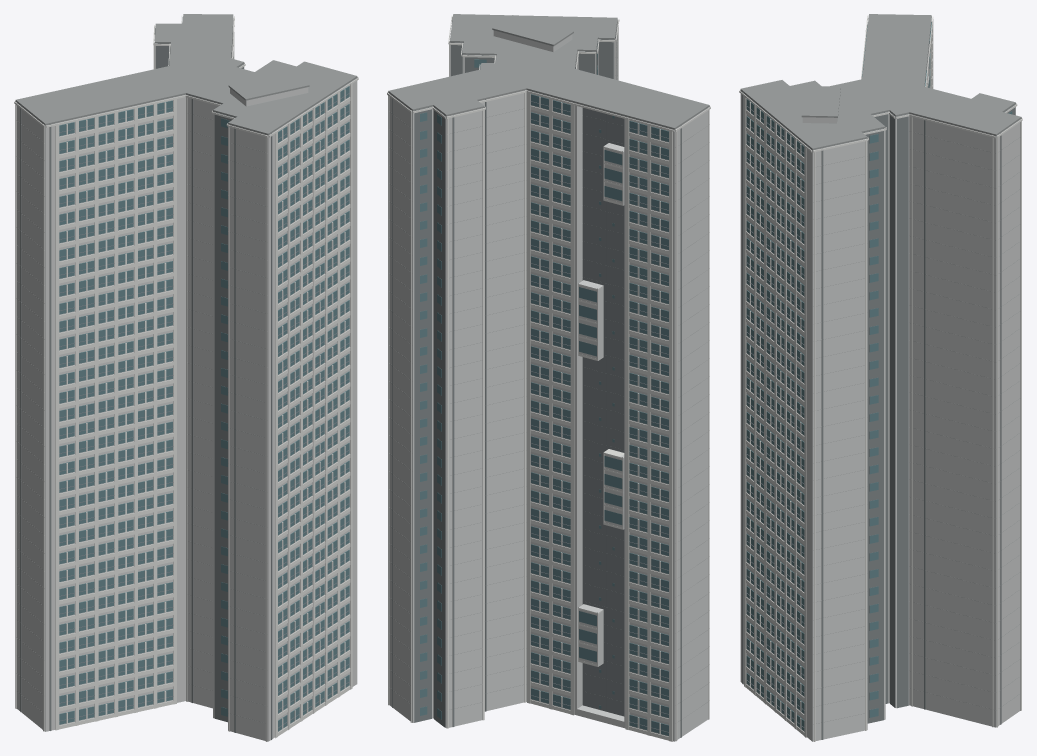
The model's file is bespoke-seoulforest-riverview-xi-101.glb.
3 views of the same model, side by side, from view 1: azimuth 30°, elevation 25°; view 2: azimuth 150°, elevation 25°; view 3: azimuth 270°, elevation 25° (orthographic). The views are drawn at different scales.
Parts seen in each view (by area): view 1: SFRX101_editable_SFRX101_light_grey_solid_wall, SFRX101_editable_SFRX101_broad_white_facade_frames, SFRX101_editable_SFRX101_blue_grey_horizontal_glazing, SFRX101_editable_SFRX101_modest_grey_flat_roof_caps, SFRX101_editable_SFRX101_deep_gray_recessed_service_wall, SFRX101_editable_SFRX101_dark_horizontal_spandrels_and_mulli; view 2: SFRX101_editable_SFRX101_light_grey_solid_wall, SFRX101_editable_SFRX101_broad_white_facade_frames, SFRX101_editable_SFRX101_deep_gray_recessed_service_wall, SFRX101_editable_SFRX101_blue_grey_horizontal_glazing, SFRX101_editable_SFRX101_modest_grey_flat_roof_caps, SFRX101_editable_SFRX101_dark_horizontal_spandrels_and_mulli; view 3: SFRX101_editable_SFRX101_light_grey_solid_wall, SFRX101_editable_SFRX101_broad_white_facade_frames, SFRX101_editable_SFRX101_deep_gray_recessed_service_wall, SFRX101_editable_SFRX101_blue_grey_horizontal_glazing, SFRX101_editable_SFRX101_modest_grey_flat_roof_caps, SFRX101_editable_SFRX101_dark_horizontal_spandrels_and_mulli.
Part boxes in pixels (x1=…): SFRX101_editable_SFRX101_light_grey_solid_wall: x1=15, y1=21, x2=357, y2=741; SFRX101_editable_SFRX101_broad_white_facade_frames: x1=14, y1=16, x2=358, y2=741; SFRX101_editable_SFRX101_blue_grey_horizontal_glazing: x1=59, y1=86, x2=349, y2=731; SFRX101_editable_SFRX101_modest_grey_flat_roof_caps: x1=15, y1=14, x2=357, y2=723; SFRX101_editable_SFRX101_deep_gray_recessed_service_wall: x1=20, y1=16, x2=272, y2=739; SFRX101_editable_SFRX101_dark_horizontal_spandrels_and_mulli: x1=59, y1=93, x2=349, y2=728; SFRX101_editable_SFRX101_light_grey_solid_wall: x1=388, y1=21, x2=709, y2=741; SFRX101_editable_SFRX101_broad_white_facade_frames: x1=387, y1=16, x2=710, y2=741; SFRX101_editable_SFRX101_deep_gray_recessed_service_wall: x1=392, y1=20, x2=681, y2=737; SFRX101_editable_SFRX101_blue_grey_horizontal_glazing: x1=420, y1=53, x2=668, y2=735; SFRX101_editable_SFRX101_modest_grey_flat_roof_caps: x1=388, y1=14, x2=709, y2=721; SFRX101_editable_SFRX101_dark_horizontal_spandrels_and_mulli: x1=531, y1=101, x2=668, y2=732; SFRX101_editable_SFRX101_light_grey_solid_wall: x1=740, y1=20, x2=1021, y2=741; SFRX101_editable_SFRX101_broad_white_facade_frames: x1=739, y1=15, x2=1022, y2=741; SFRX101_editable_SFRX101_deep_gray_recessed_service_wall: x1=742, y1=18, x2=1015, y2=739; SFRX101_editable_SFRX101_blue_grey_horizontal_glazing: x1=746, y1=22, x2=1012, y2=730; SFRX101_editable_SFRX101_modest_grey_flat_roof_caps: x1=740, y1=14, x2=1021, y2=724; SFRX101_editable_SFRX101_dark_horizontal_spandrels_and_mulli: x1=746, y1=76, x2=927, y2=727.
Bounding box in the file's own units: 47.06 × 97 × 41.49.
